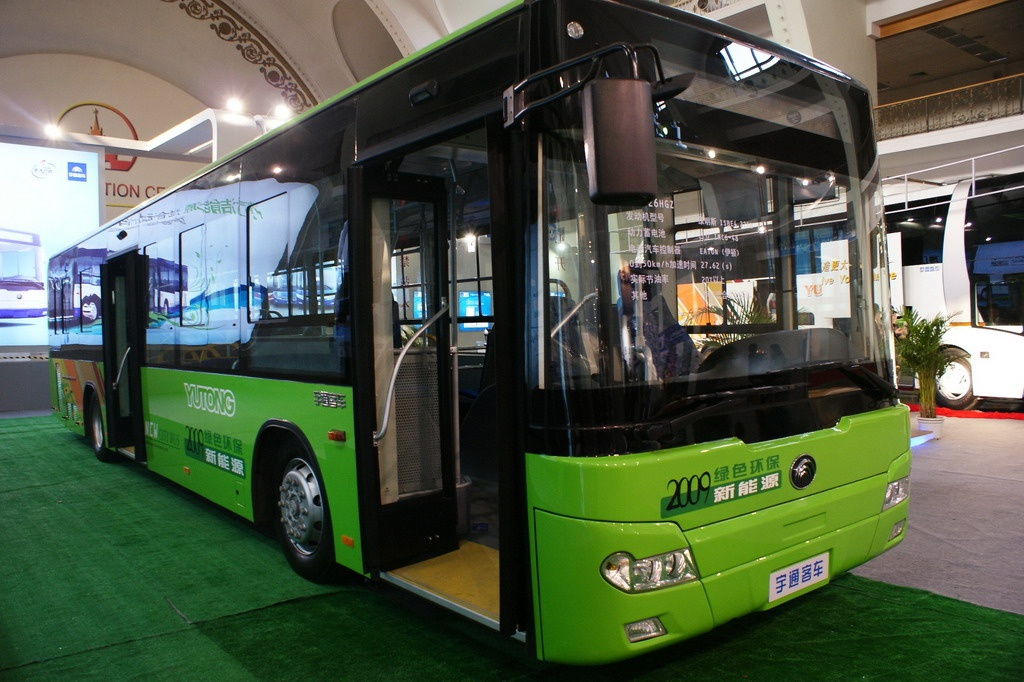bus: (63, 43, 904, 653)
